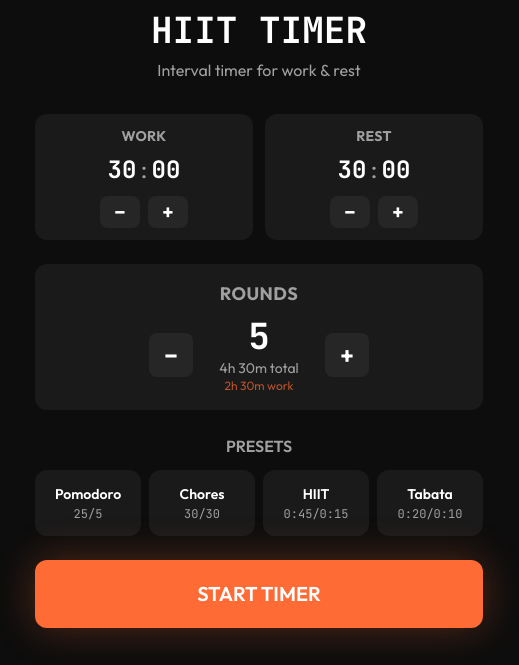
Test: SetupPage › Scenario: Quick preset selection › selects preset and updates configuration
The image size is (519, 665).
Click the text "Pomodoro". click: (88, 494)
box: [55,484,121,504]
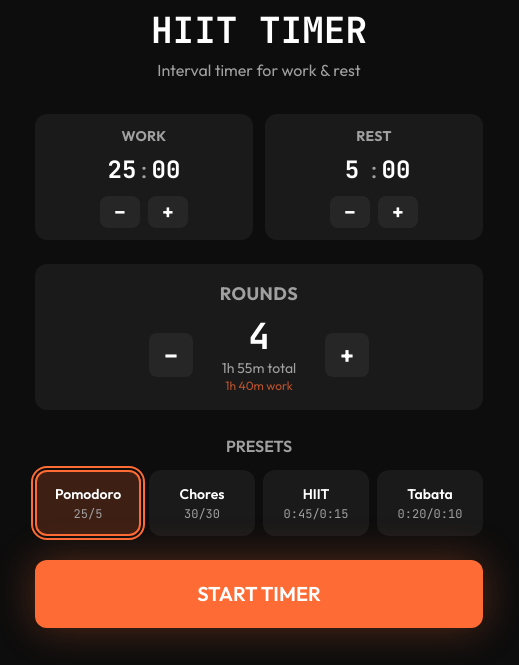
expect the field named "work minutes" holds "25": met, box [106,154,138,188]
